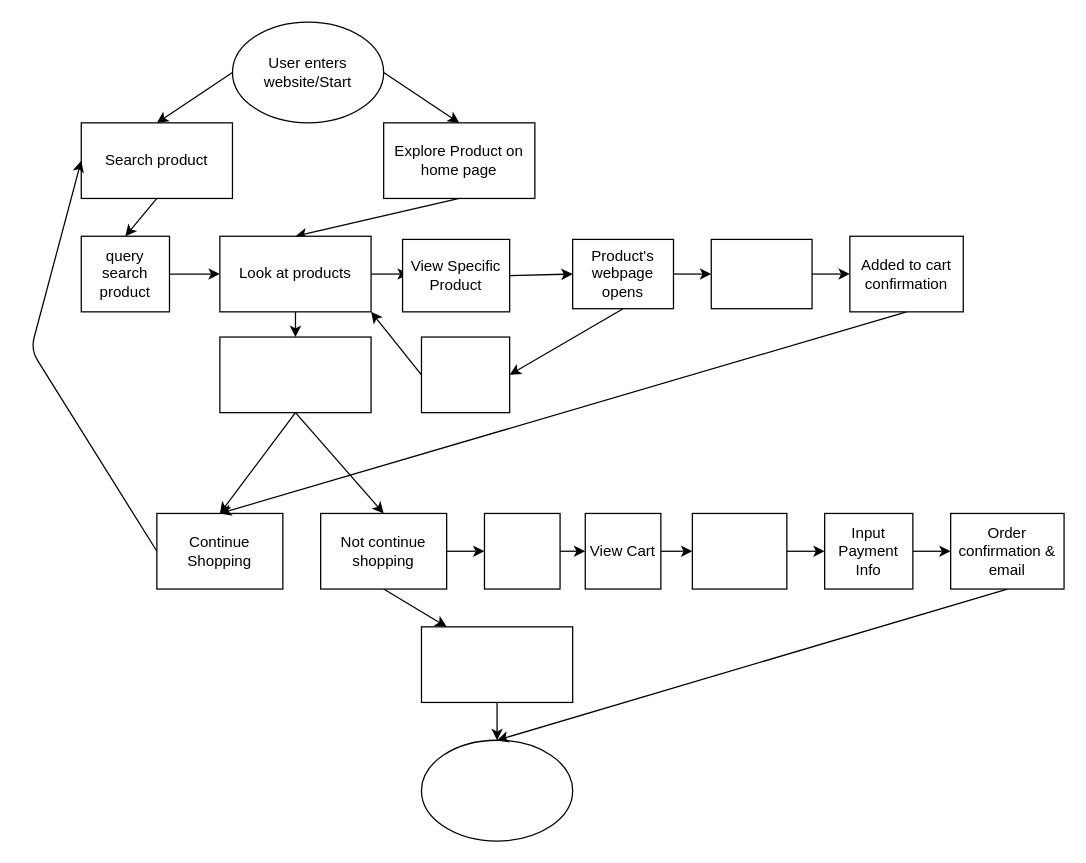
This 1086x863 diagram has some shape labels left out. The box of each missing label's shape, as (x1, y1, x2, y2) in pixels:
Add to cart: (710, 238, 812, 309)
Checkout: (483, 512, 560, 589)
End/User leaves site: (420, 739, 573, 841)
No Checkout: (420, 626, 573, 702)
Not add to cart: (420, 336, 510, 413)
Not view specific product: (219, 336, 371, 413)
Payment Screen: (691, 512, 787, 589)
